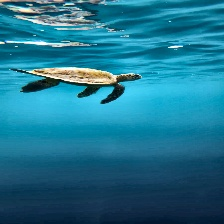seaturtle: (7, 67, 142, 104), (100, 83, 125, 105)
